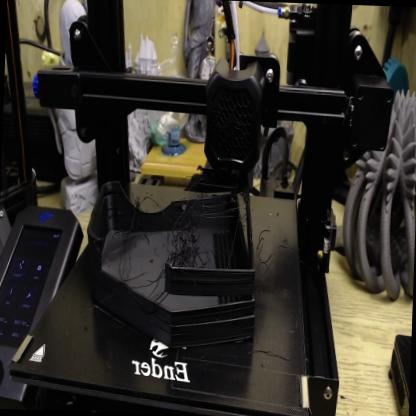fail: (165, 192, 228, 268)
